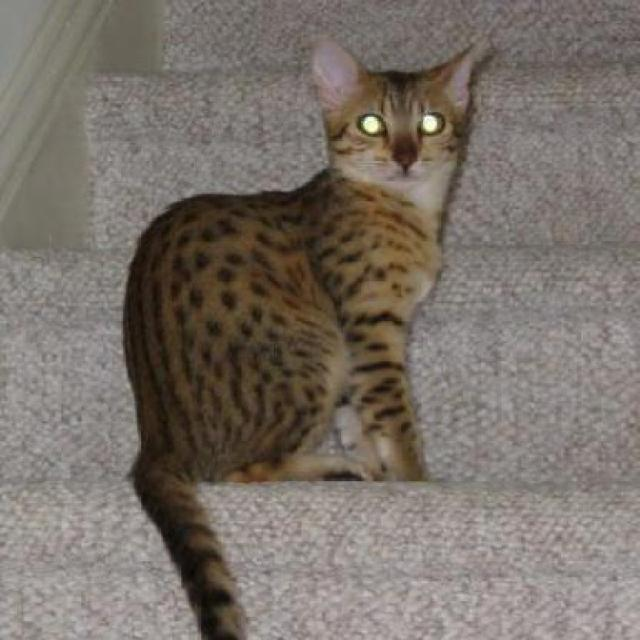cat: (120, 29, 478, 638)
